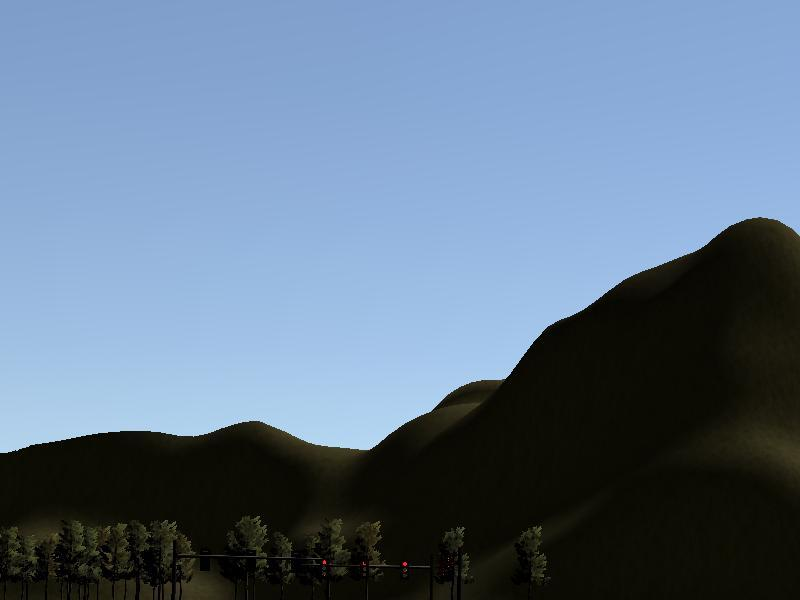Red: (401, 559, 409, 575), (361, 560, 370, 574), (321, 559, 328, 573)
